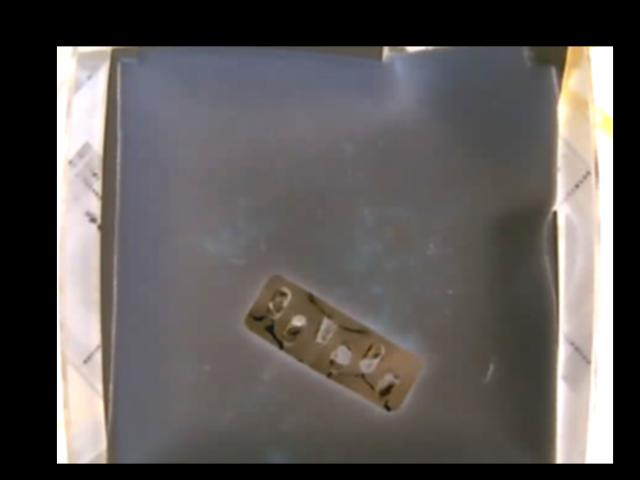Medicine: (246, 271, 424, 410)
